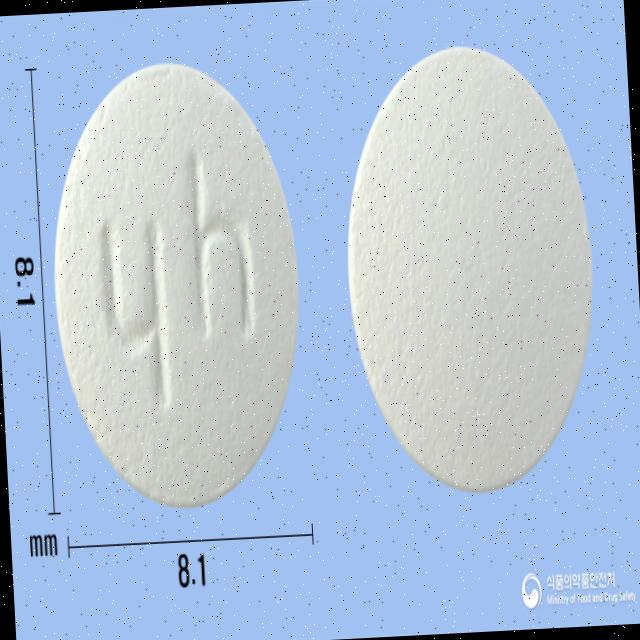Levomicin: (336, 39, 606, 502), (43, 54, 313, 514)
